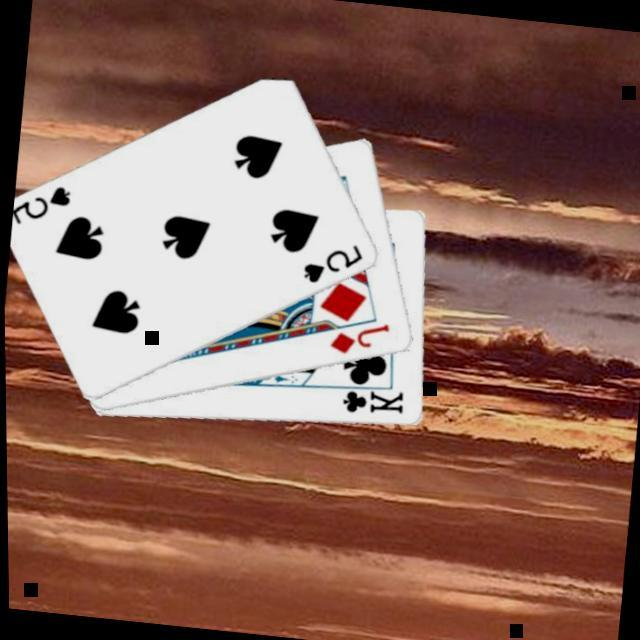5S: (299, 235, 369, 291), (10, 178, 78, 232)
JD: (326, 314, 395, 362)
KC: (331, 375, 409, 420)
